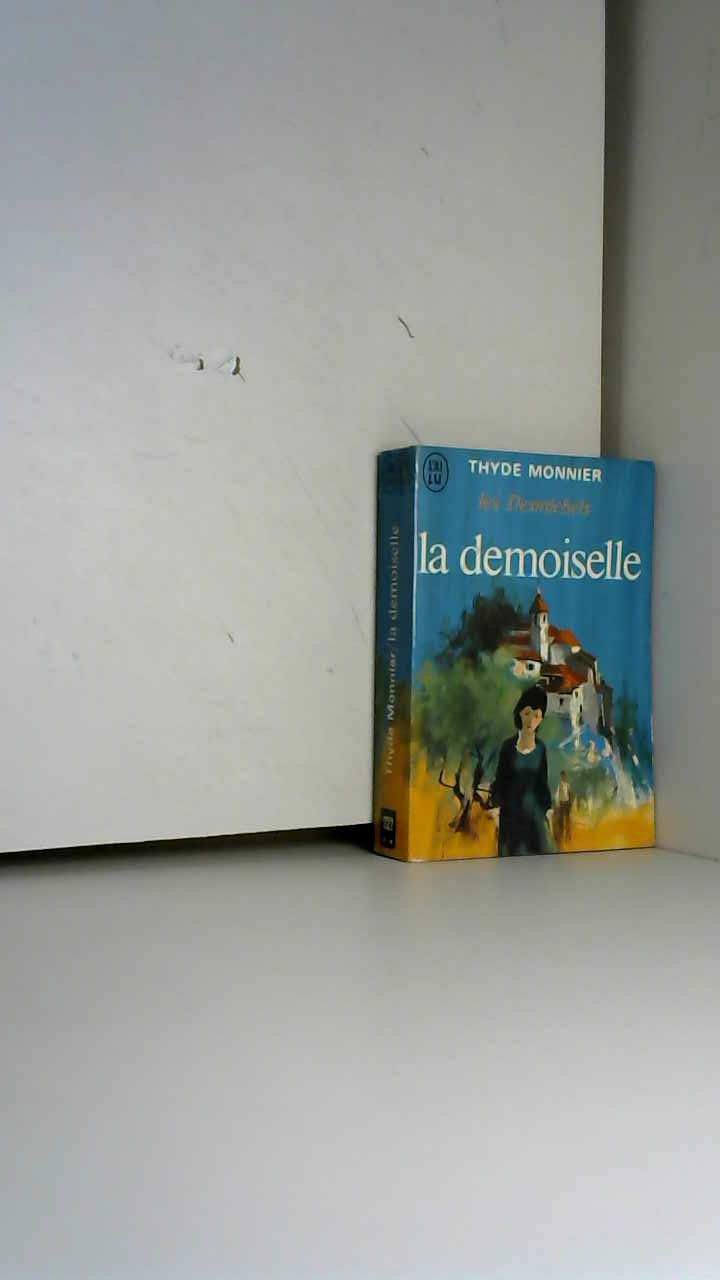book: (340, 420, 717, 885)
